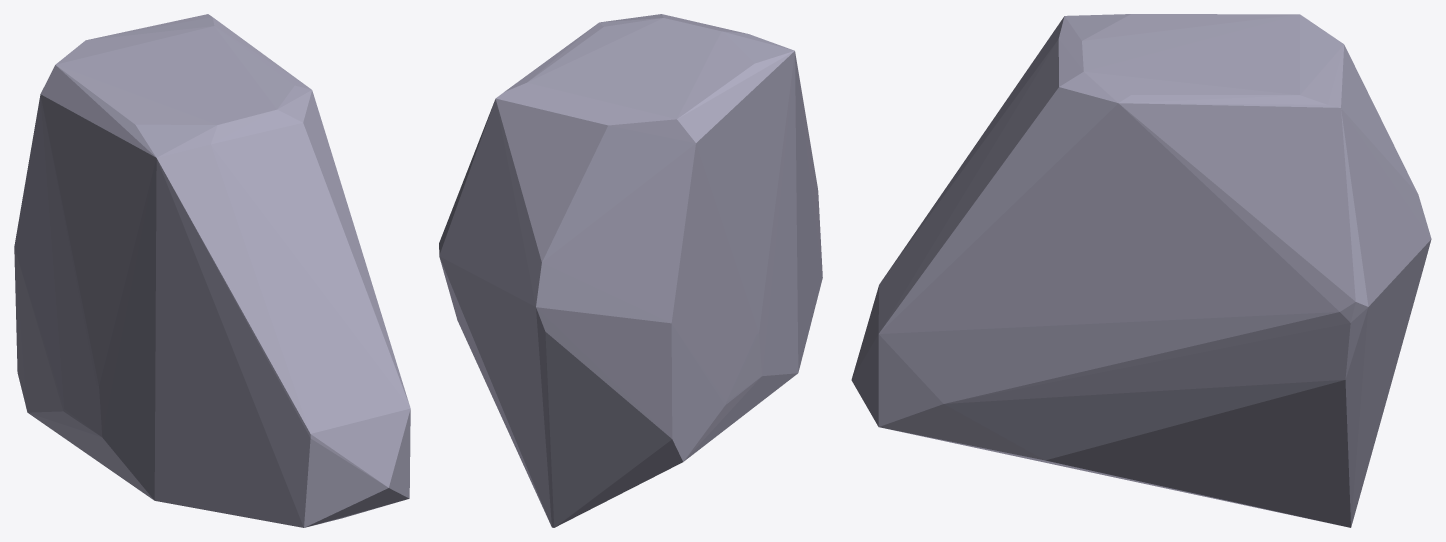
The model's file is serviceTool_brake_lathe_a01.glb.
The picture shows the model from 3 angles, left to right: view 1: azimuth 30°, elevation 25°; view 2: azimuth 150°, elevation 25°; view 3: azimuth 270°, elevation 25°; orthographic projection. The views are drawn at different scales.
Parts seen in each view (by area): view 1: geometry_0; view 2: geometry_0; view 3: geometry_0.
Part boxes in pixels (x1,y1,x2,y2): geometry_0: [14, 14, 410, 527]; geometry_0: [439, 14, 822, 527]; geometry_0: [851, 14, 1431, 527].
Size of the model in its own units: 0.2438 by 0.4187 by 0.477.
